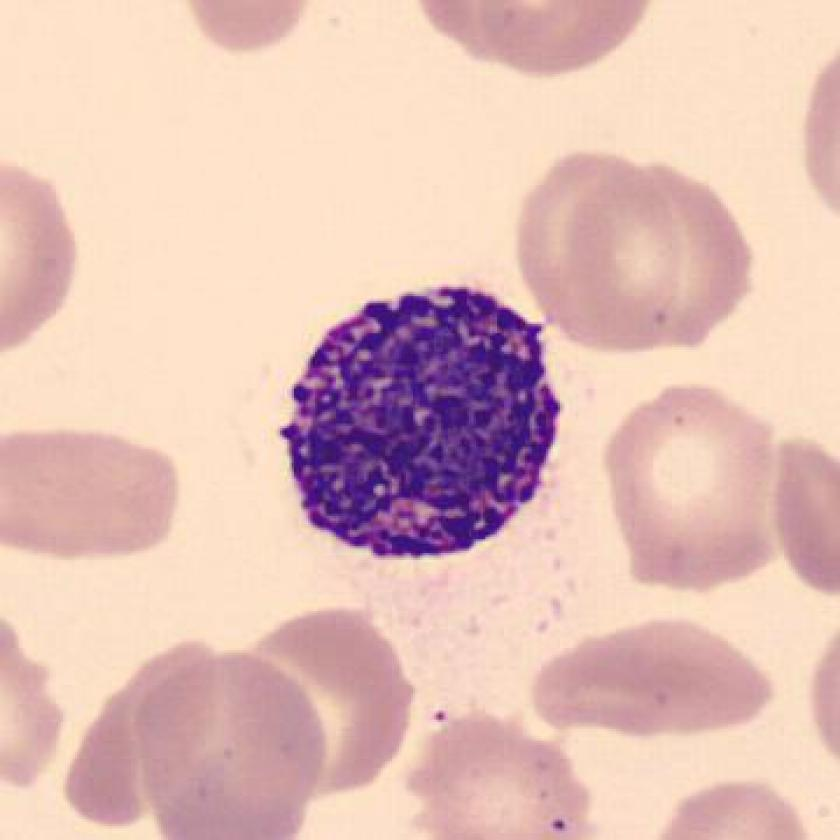basophil: (281, 279, 573, 570)
